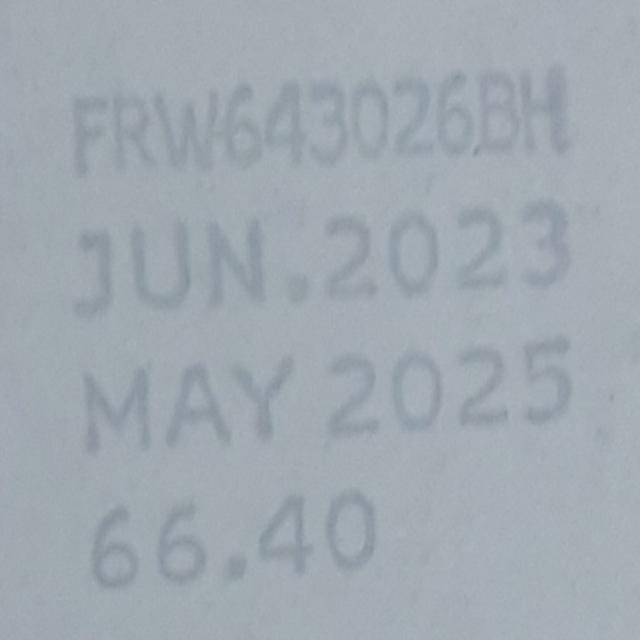sentence: (82, 331, 572, 454), (76, 200, 570, 312), (74, 66, 569, 175), (90, 490, 375, 589)
